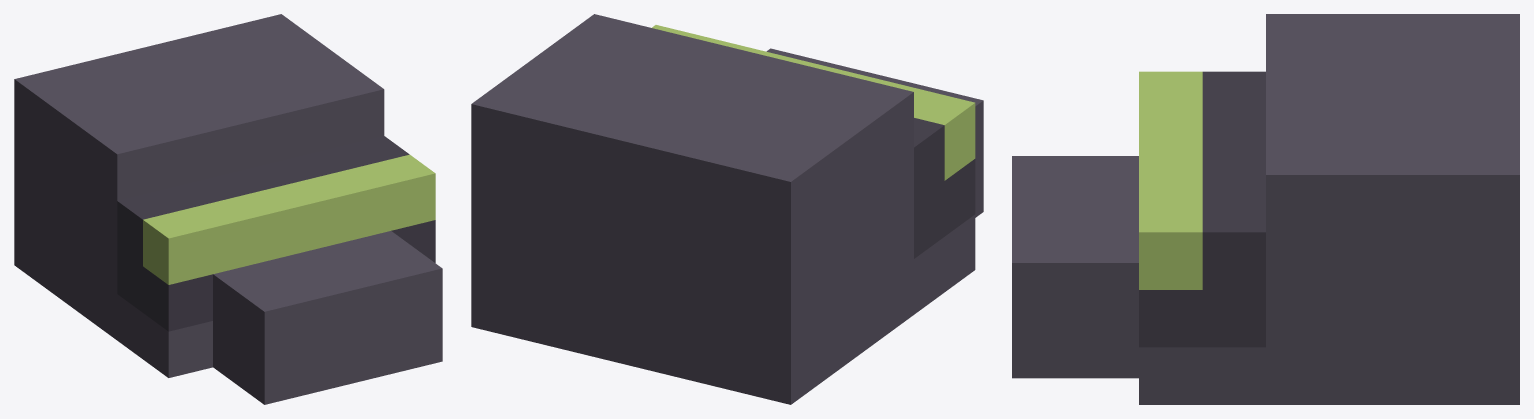
File: head.glb
The picture shows the model from 3 angles, left to right: view 1: azimuth 30°, elevation 25°; view 2: azimuth 150°, elevation 25°; view 3: azimuth 270°, elevation 25°; orthographic projection. The views are drawn at different scales.
Size of the model in its own units: 6 by 4 by 8.
